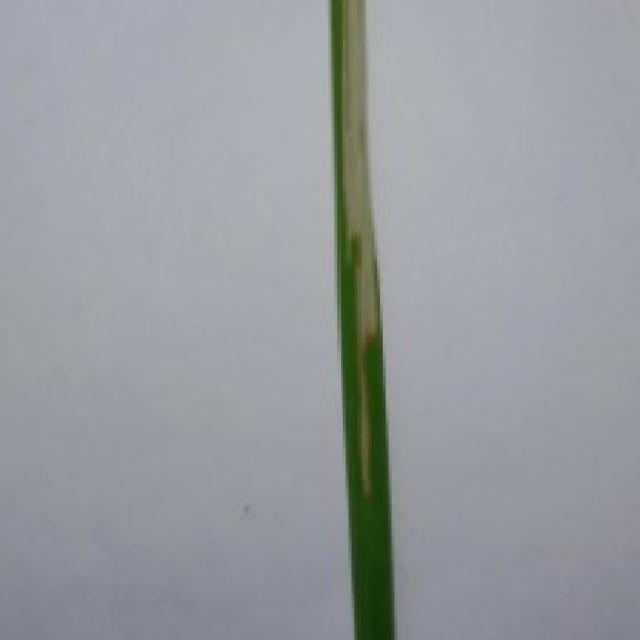Bacterial_Blight: (325, 0, 395, 498)
